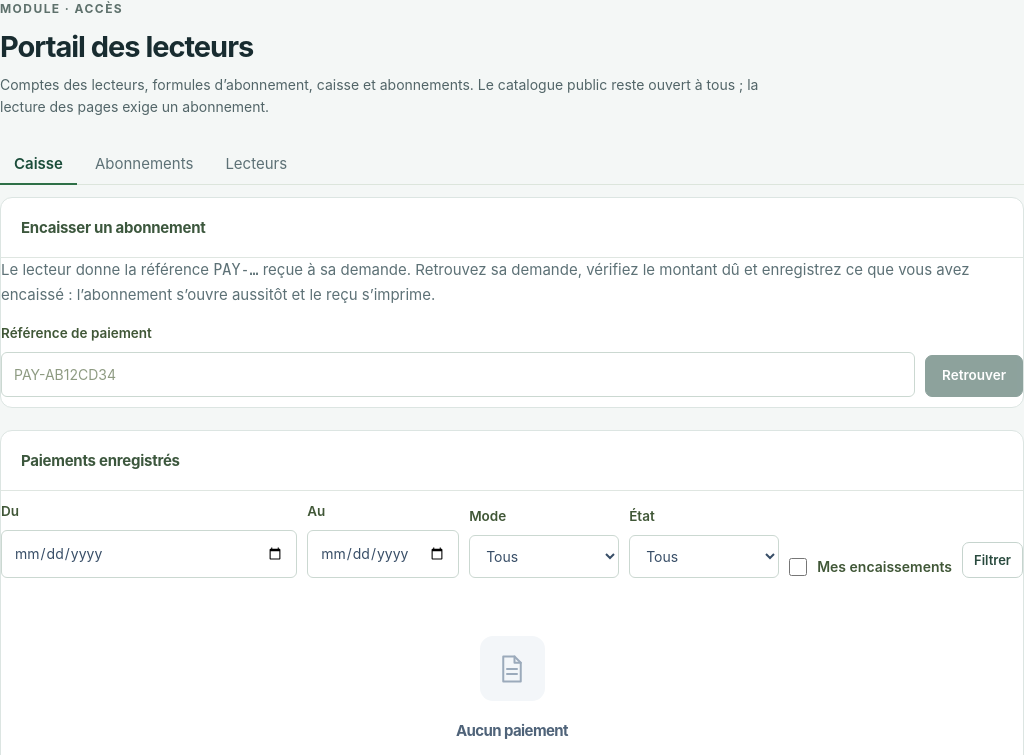
les abonnements en attente de paiement s’affichent d’abord et s’ouvrent en fiche
What coordinates should you click on to do the following:
click the tab "Abonnements"
I would click on:
 (144, 164)
Its box is [81,144,207,185].
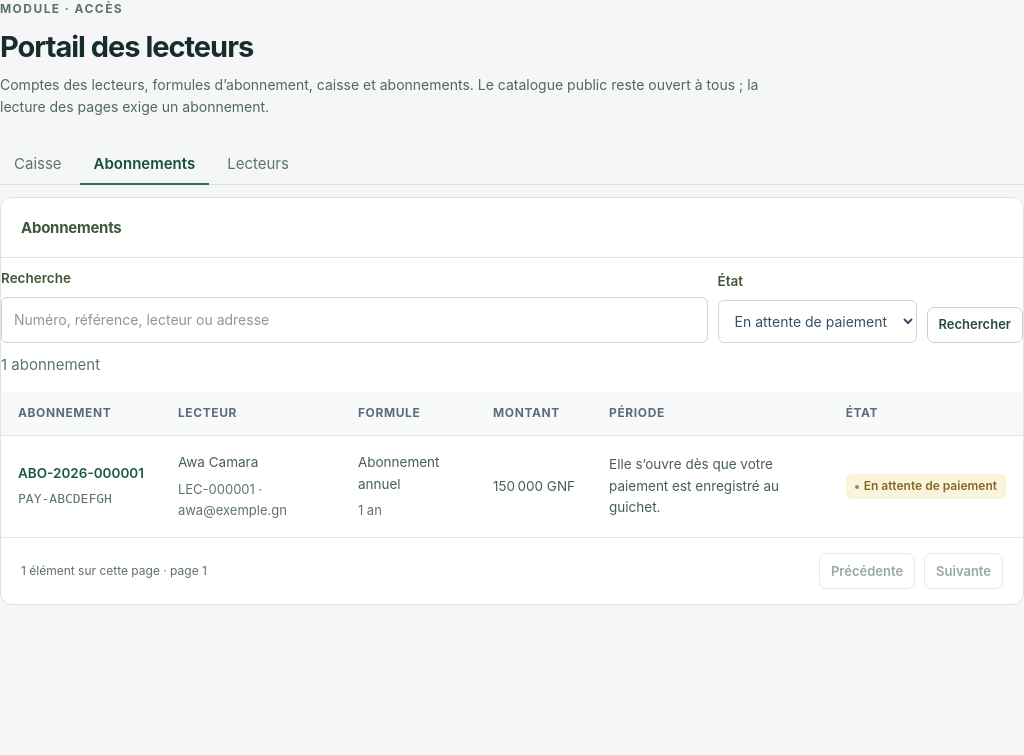
expect the button "ABO-2026-000001" is shown: met
expect the text "150 000 GNF" is shown: met, box [476,436,592,537]
What coordinates should you click on to do the following:
click the button "ABO-2026-000001"
I would click on:
 (81, 474)
Its box is [18,463,144,484].
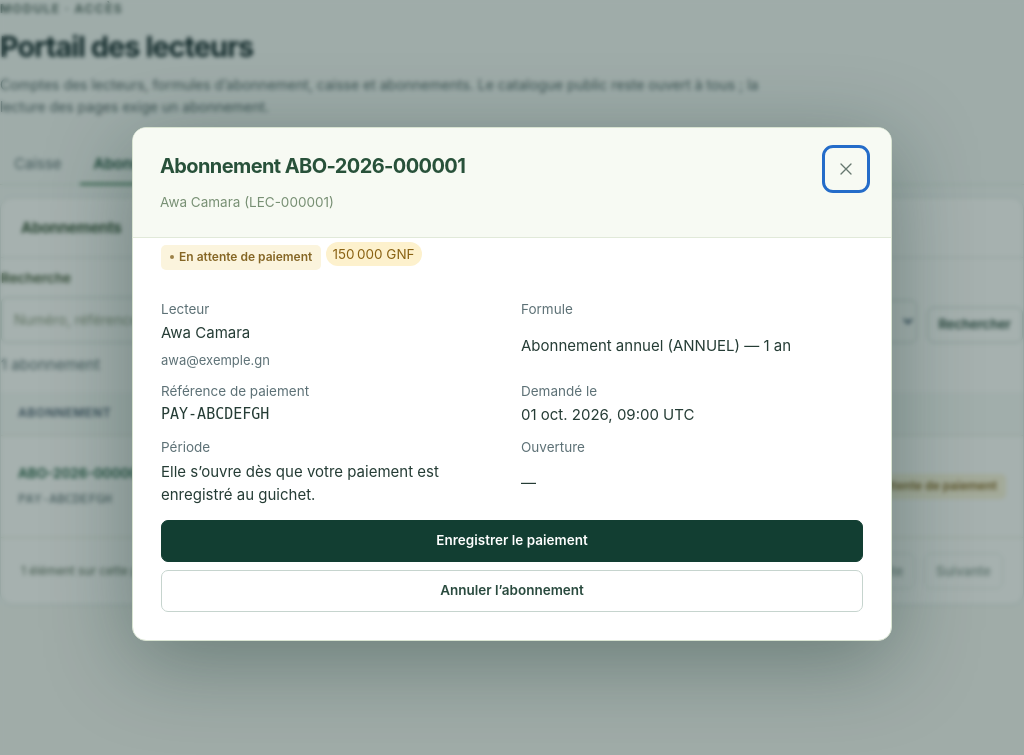
expect the dialog is shown: met, box [132,127,892,641]
